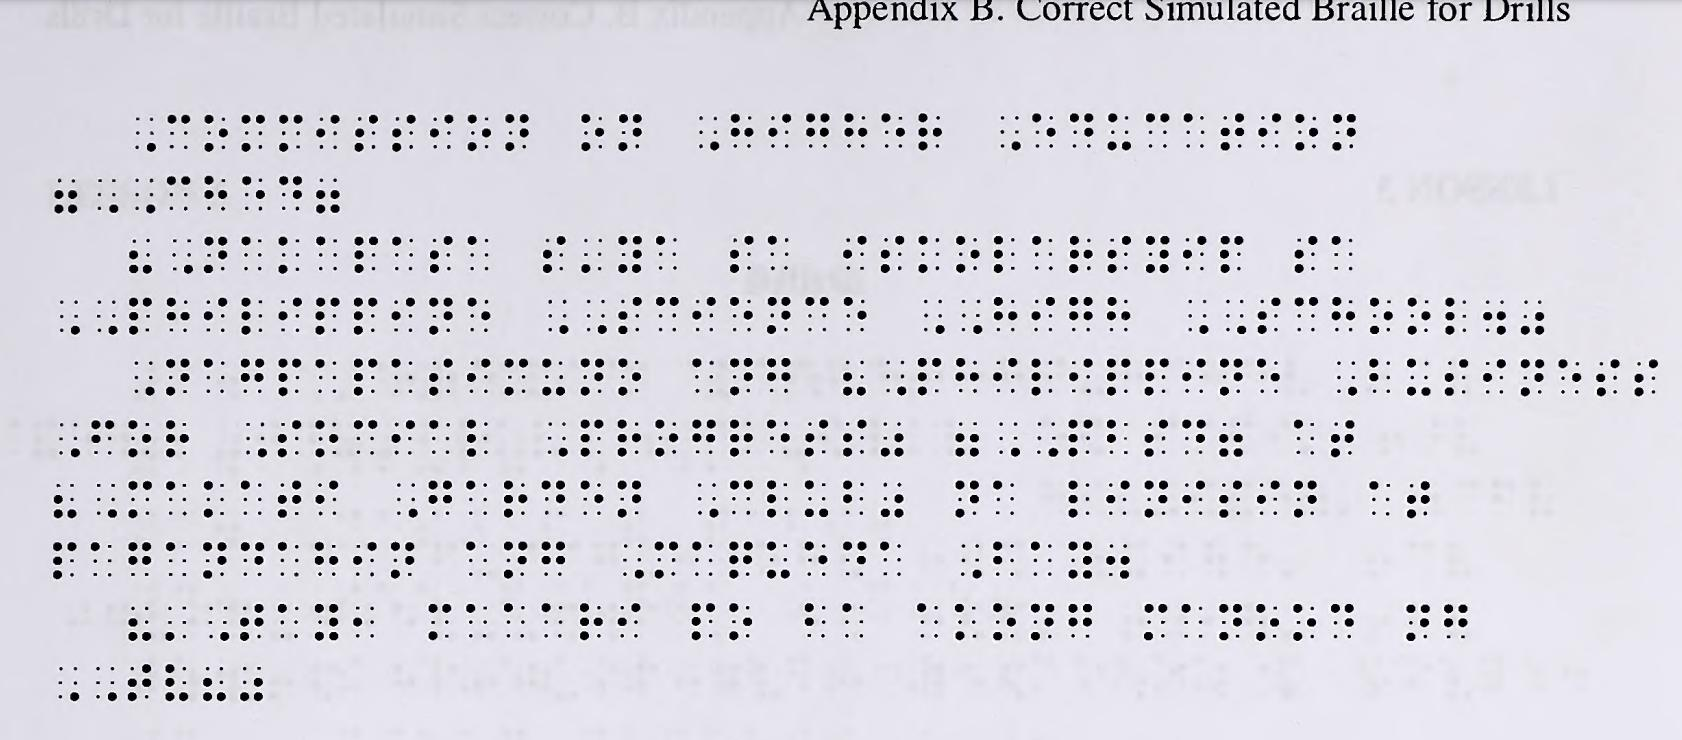capital_sign: (999, 112, 1024, 152), (1029, 539, 1053, 580), (1333, 357, 1359, 396), (1035, 418, 1059, 460), (56, 664, 80, 704), (95, 298, 121, 336), (93, 482, 119, 519), (959, 296, 983, 337), (545, 298, 572, 334), (58, 297, 84, 334), (97, 175, 120, 214), (58, 418, 82, 458), (134, 176, 158, 214), (696, 482, 720, 520), (1187, 297, 1209, 339), (923, 297, 946, 335), (884, 358, 908, 396), (622, 541, 644, 581), (585, 296, 607, 334), (1225, 297, 1248, 335), (135, 117, 158, 153), (999, 423, 1021, 459), (395, 483, 417, 519), (133, 357, 154, 395), (245, 418, 266, 456), (546, 418, 567, 456), (208, 604, 230, 641), (93, 666, 117, 699), (960, 541, 982, 577), (171, 239, 192, 273), (699, 114, 718, 151)
letter_B: (1369, 357, 1392, 395), (994, 541, 1016, 576)
letter_C: (168, 114, 191, 150), (732, 480, 753, 515), (169, 178, 191, 210)
letter_E: (1032, 114, 1054, 147)
letter_F: (90, 417, 116, 459)
letter_G: (426, 477, 452, 518)
letter_H: (731, 112, 754, 150), (993, 297, 1018, 334)
letter_M: (654, 541, 678, 578)
letter_N: (166, 359, 191, 396)
letter_P: (1067, 417, 1091, 459), (129, 296, 153, 336), (918, 358, 943, 396)
letter_S: (277, 418, 304, 456), (618, 298, 644, 335), (1258, 296, 1280, 339)
letter_T: (129, 665, 152, 701), (240, 603, 263, 640)
letter_a: (463, 601, 491, 641), (463, 477, 491, 516), (1030, 234, 1057, 273), (502, 602, 529, 641), (429, 416, 454, 458), (389, 356, 415, 396), (164, 480, 190, 520), (1293, 417, 1318, 456), (203, 357, 227, 396), (277, 541, 301, 579), (1331, 232, 1354, 273), (691, 357, 717, 394), (390, 234, 414, 273), (992, 478, 1016, 518), (466, 236, 490, 273), (276, 604, 300, 641), (768, 233, 790, 275), (240, 478, 263, 518), (165, 541, 189, 578), (880, 539, 903, 576), (841, 602, 865, 638), (90, 541, 115, 575), (692, 541, 714, 578), (314, 358, 338, 394), (318, 237, 340, 273), (464, 542, 488, 576), (240, 235, 262, 272), (1370, 482, 1392, 517), (540, 603, 562, 638), (1181, 605, 1205, 638), (655, 237, 677, 272), (1185, 112, 1205, 150), (919, 604, 940, 640)
letter_b: (803, 600, 827, 640), (1106, 417, 1130, 455), (841, 477, 865, 515)
letter_c: (351, 416, 379, 456), (1144, 113, 1172, 147), (807, 296, 830, 336), (1295, 295, 1318, 335), (654, 296, 679, 334)
letter_d: (1068, 112, 1096, 154), (1181, 418, 1208, 459), (277, 175, 305, 213), (1329, 602, 1356, 641), (843, 539, 868, 577), (240, 541, 264, 577), (542, 480, 564, 518)
letter_e: (1558, 357, 1583, 398), (879, 112, 905, 149), (805, 539, 829, 579), (842, 296, 867, 334), (767, 417, 792, 455), (468, 296, 490, 336), (580, 478, 603, 518), (242, 178, 264, 214), (731, 296, 752, 332), (1257, 357, 1279, 393)
letter_f: (617, 114, 643, 152)
letter_g: (765, 355, 791, 398), (1067, 295, 1095, 334), (1443, 604, 1470, 640), (1068, 601, 1093, 639), (126, 541, 152, 576), (239, 358, 264, 396), (693, 418, 717, 456), (806, 114, 829, 150), (542, 541, 564, 576)
letter_h: (1105, 295, 1132, 332), (955, 357, 980, 395), (203, 174, 227, 211), (1332, 294, 1355, 335), (314, 541, 338, 578), (165, 298, 191, 332), (844, 113, 866, 148)
letter_i: (1105, 477, 1133, 519), (1257, 112, 1284, 152), (352, 541, 379, 580), (201, 298, 227, 337), (1030, 296, 1057, 334), (315, 477, 340, 518), (992, 357, 1020, 393), (766, 114, 793, 149), (1181, 237, 1208, 272), (844, 236, 869, 273), (1069, 359, 1094, 397), (279, 297, 303, 336), (390, 297, 416, 332), (693, 297, 719, 332), (468, 357, 490, 397), (1256, 478, 1279, 518), (616, 603, 640, 638), (1482, 360, 1505, 399), (431, 114, 453, 153), (1183, 357, 1206, 394), (393, 418, 415, 455), (1182, 480, 1205, 516), (316, 116, 339, 149)
letter_k: (916, 233, 942, 275), (279, 236, 303, 275), (202, 482, 226, 518), (955, 604, 977, 642)
letter_l: (764, 477, 792, 518), (464, 417, 492, 456), (1065, 478, 1092, 518), (238, 299, 265, 336), (1031, 358, 1054, 398), (993, 233, 1015, 273), (1445, 297, 1467, 334)
letter_m: (127, 477, 152, 519), (504, 358, 527, 398), (1146, 603, 1169, 640), (278, 117, 304, 151), (242, 116, 266, 149), (428, 605, 449, 641)
letter_n: (953, 477, 983, 518), (616, 480, 645, 519), (1404, 604, 1433, 642), (503, 112, 529, 154), (729, 358, 755, 401), (1029, 602, 1054, 642), (201, 541, 227, 578), (203, 237, 228, 276), (766, 296, 792, 335), (1520, 359, 1545, 399), (1145, 478, 1169, 518), (428, 296, 452, 337), (580, 357, 605, 396), (390, 542, 415, 579), (1332, 115, 1358, 150), (1219, 359, 1244, 395), (502, 541, 526, 578), (1218, 604, 1241, 641), (1294, 480, 1316, 518)
letter_o: (954, 232, 982, 273), (1368, 294, 1393, 338), (1292, 601, 1316, 643), (313, 417, 339, 458), (1405, 297, 1430, 339), (1256, 602, 1281, 643), (653, 418, 680, 456), (582, 112, 607, 152), (616, 356, 640, 397), (1296, 112, 1319, 153), (203, 115, 228, 151), (728, 603, 752, 642), (991, 603, 1016, 640), (466, 117, 490, 153), (129, 420, 151, 456)
letter_p: (579, 416, 606, 459), (1218, 235, 1244, 273), (276, 356, 303, 395), (690, 602, 715, 641), (353, 295, 378, 336), (1106, 357, 1131, 397), (316, 297, 341, 336), (353, 236, 378, 273), (353, 358, 378, 396), (1144, 359, 1169, 395), (53, 543, 77, 578)
letter_q: (727, 539, 755, 577)
letter_r: (727, 417, 754, 458), (616, 418, 641, 460), (502, 477, 528, 518), (917, 109, 942, 151), (578, 602, 604, 641), (165, 417, 188, 458), (1069, 235, 1092, 273)
letter_s: (352, 112, 381, 152), (842, 415, 868, 459), (1595, 357, 1621, 399), (728, 234, 755, 273), (805, 416, 829, 459), (1145, 418, 1169, 459), (1295, 236, 1320, 275), (1634, 357, 1657, 399), (540, 238, 566, 275), (881, 237, 906, 275), (1107, 237, 1133, 273), (1220, 480, 1243, 520), (390, 115, 414, 152), (1446, 360, 1467, 398), (430, 238, 453, 273), (430, 360, 452, 396)
letter_t: (1219, 112, 1246, 152), (1329, 420, 1355, 458), (1407, 482, 1432, 518), (278, 478, 300, 518)
letter_u: (540, 356, 569, 399), (1106, 112, 1131, 154), (1405, 357, 1431, 396), (766, 541, 788, 582), (805, 478, 827, 519)
letter_v: (166, 664, 188, 702)
letter_y: (314, 601, 339, 642), (1068, 539, 1093, 580), (618, 235, 643, 275), (1147, 234, 1168, 275)
